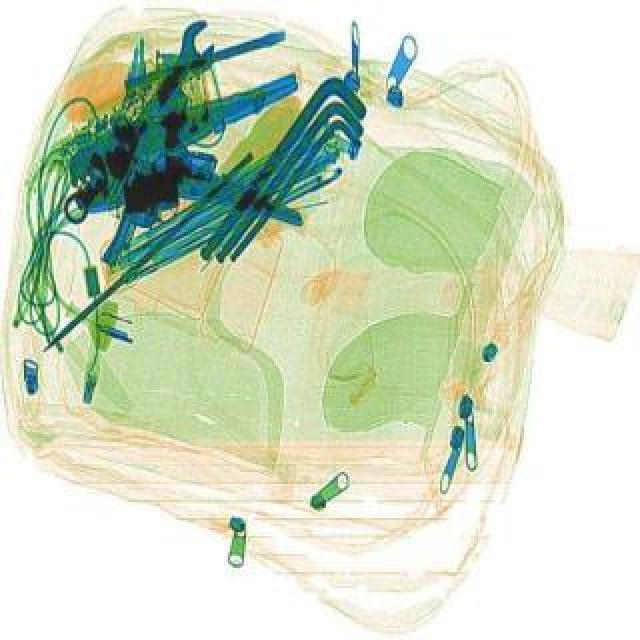gun: (96, 132, 220, 284)
scissors: (50, 12, 230, 230)
